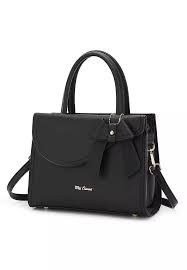bag: (14, 47, 181, 223)
